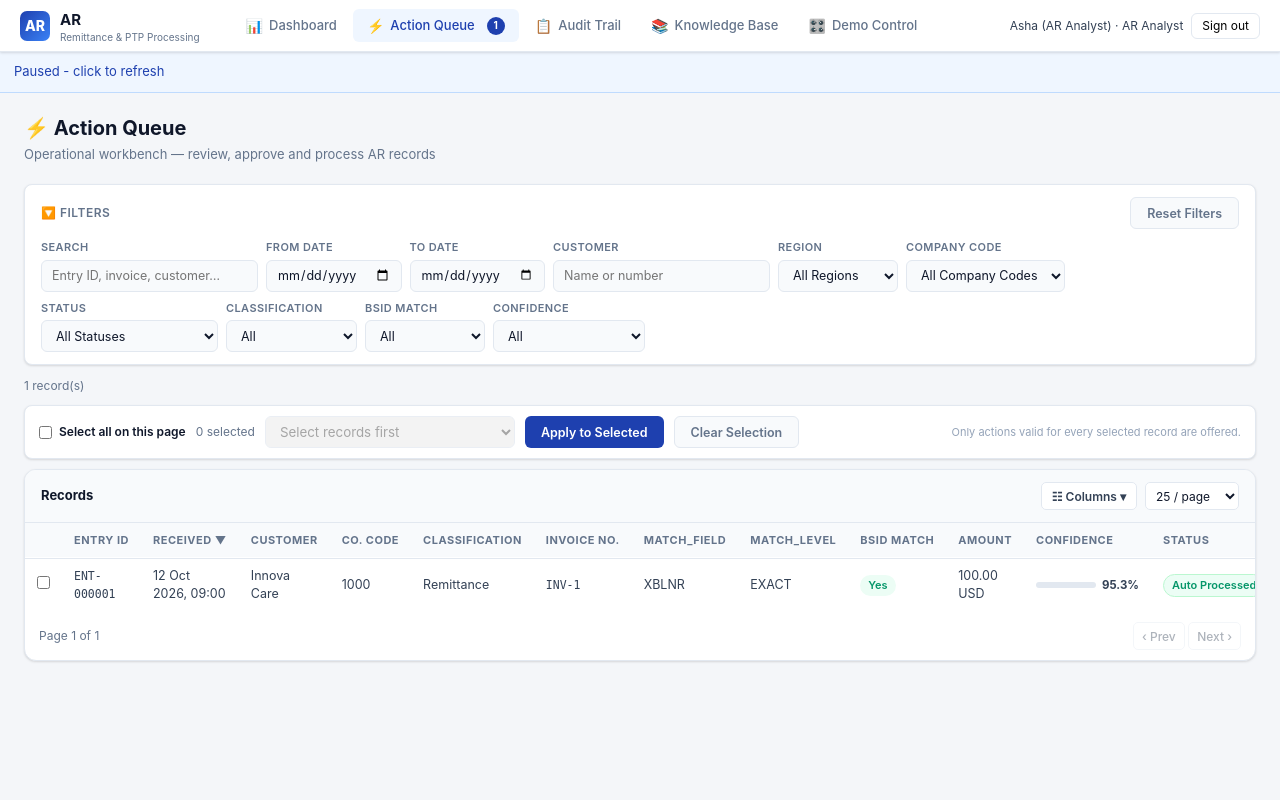
Test case: idle handling › pauses live updates after 5 minutes without activity, shows 'Paused - click to refresh', and a click resumes
The image size is (1280, 800).
Check: the text "ENT-000001" is shown, box [74,568,116,601]
Step 1. Click the button "Paused - click to refresh" → click(89, 71), box [0,52,1279,92]
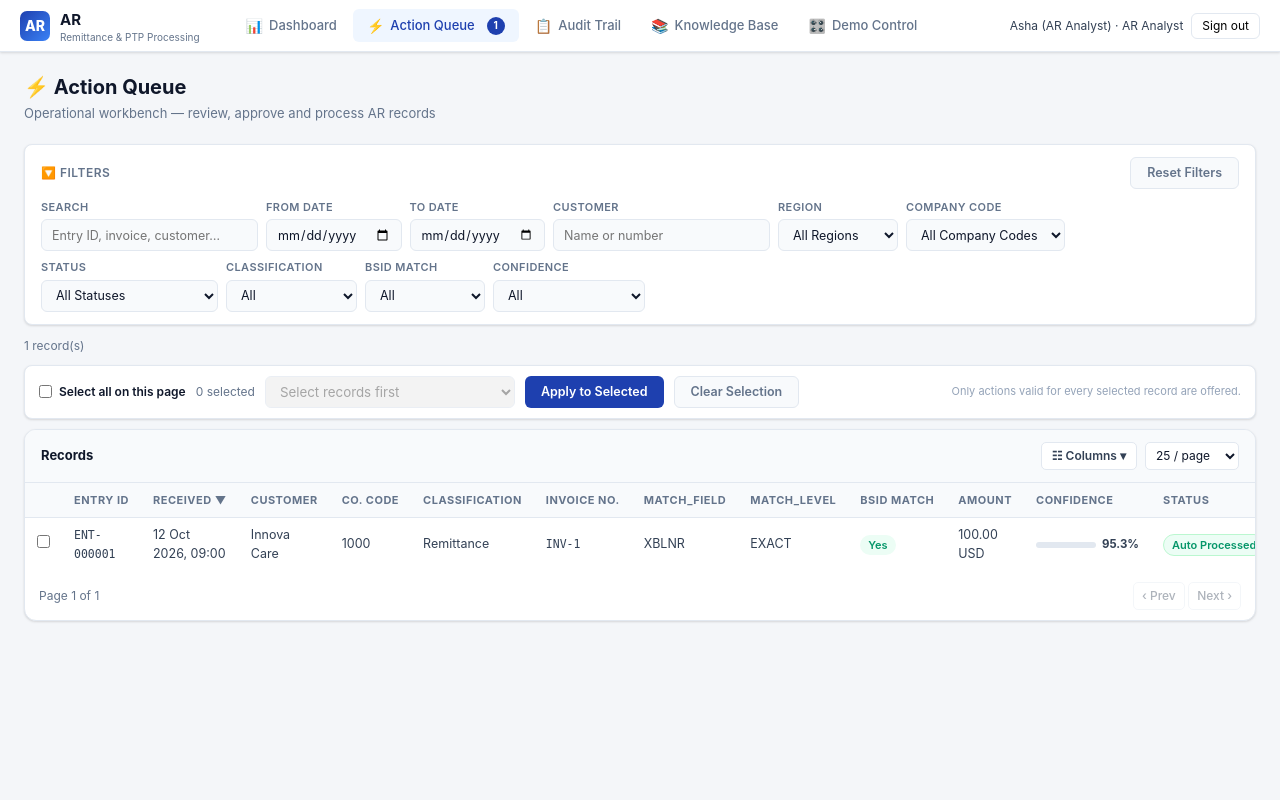
Check: the button "Paused - click to refresh" is gone
